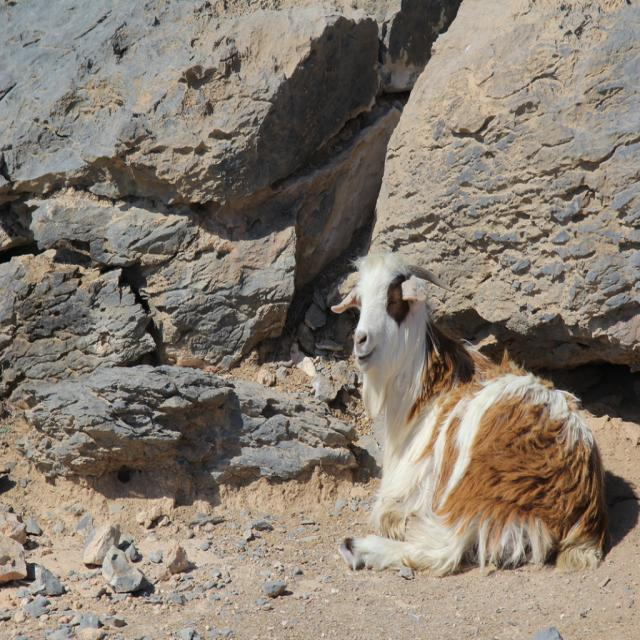Goat: (337, 230, 608, 608)
